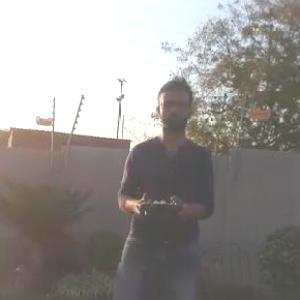follow: (106, 68, 222, 299)
